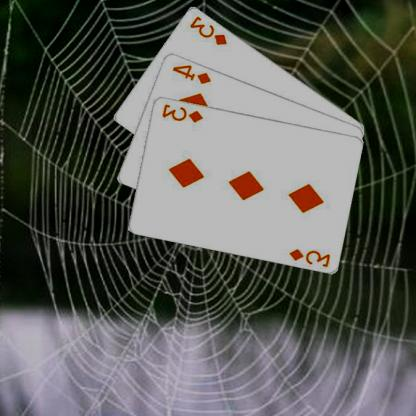3D: (189, 12, 230, 46), (161, 100, 206, 124), (288, 246, 333, 268)
4D: (172, 62, 214, 85)
